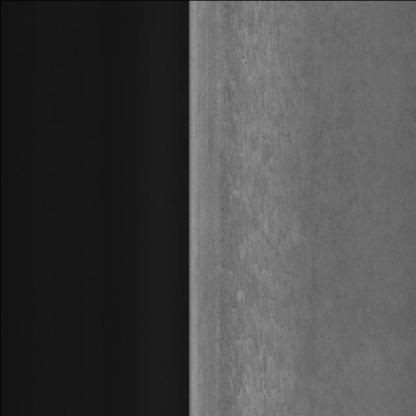silk_spot: (220, 35, 298, 397)
